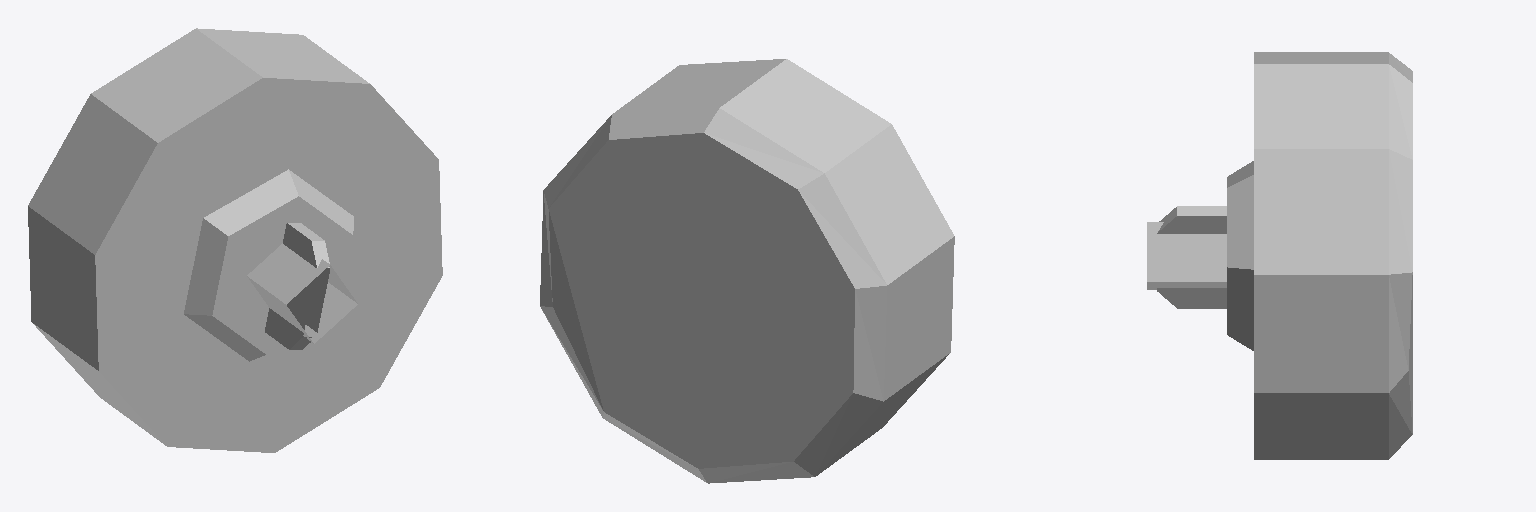
The model's file is wheel40.obj.
3 views of the same model, side by side, from view 1: azimuth 30°, elevation 25°; view 2: azimuth 150°, elevation 25°; view 3: azimuth 270°, elevation 25° (orthographic).
Parts seen in each view (by area): view 1: wheel_low_textures; view 2: wheel_low_textures; view 3: wheel_low_textures.
Boxes of the visible parts, x1=… form: wheel_low_textures: x1=28, y1=28, x2=442, y2=452; wheel_low_textures: x1=540, y1=59, x2=954, y2=483; wheel_low_textures: x1=1147, y1=52, x2=1412, y2=459.
Size of the model in its own units: 1.5 by 1.56 by 0.9907.